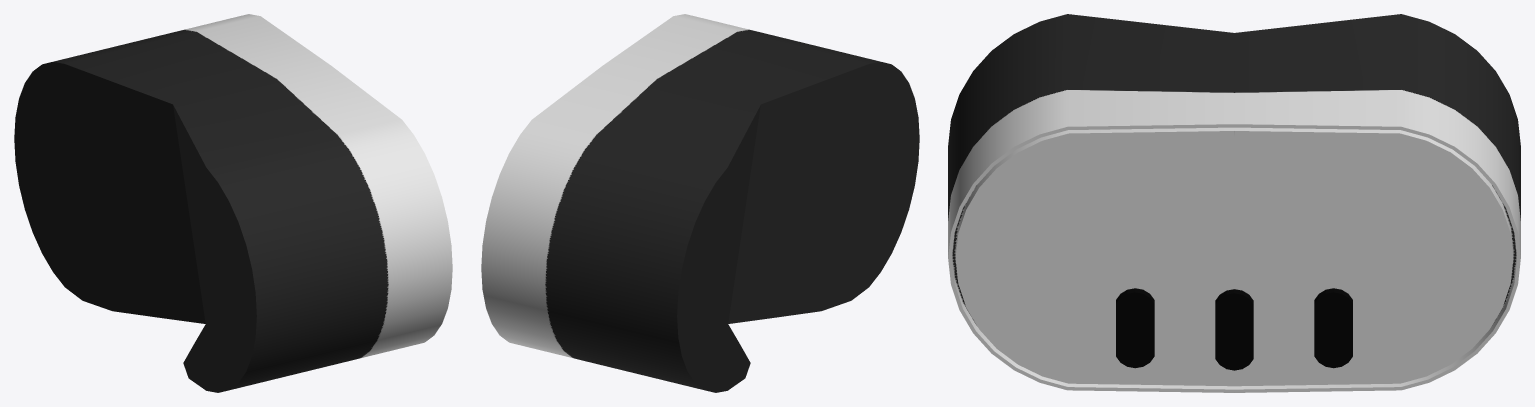
Rendered from bouken3.fbx.
The picture shows the model from 3 angles, left to right: view 1: azimuth 30°, elevation 25°; view 2: azimuth 150°, elevation 25°; view 3: azimuth 270°, elevation 25°; orthographic projection. The views are drawn at different scales.
Visible parts, largest first — view 1: hmd_base; view 2: hmd_base; view 3: hmd_base, camera1, camera2.
Part boxes in pixels (bbox=[...]): hmd_base: bbox=[14, 14, 452, 392]; hmd_base: bbox=[481, 14, 919, 392]; hmd_base: bbox=[948, 14, 1520, 392]; camera1: bbox=[1116, 288, 1352, 368]; camera2: bbox=[1215, 289, 1253, 370].
Size of the model in its own units: 0.153 by 0.0739 by 0.0792.
